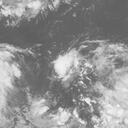cyclone: (51, 49, 86, 83)
